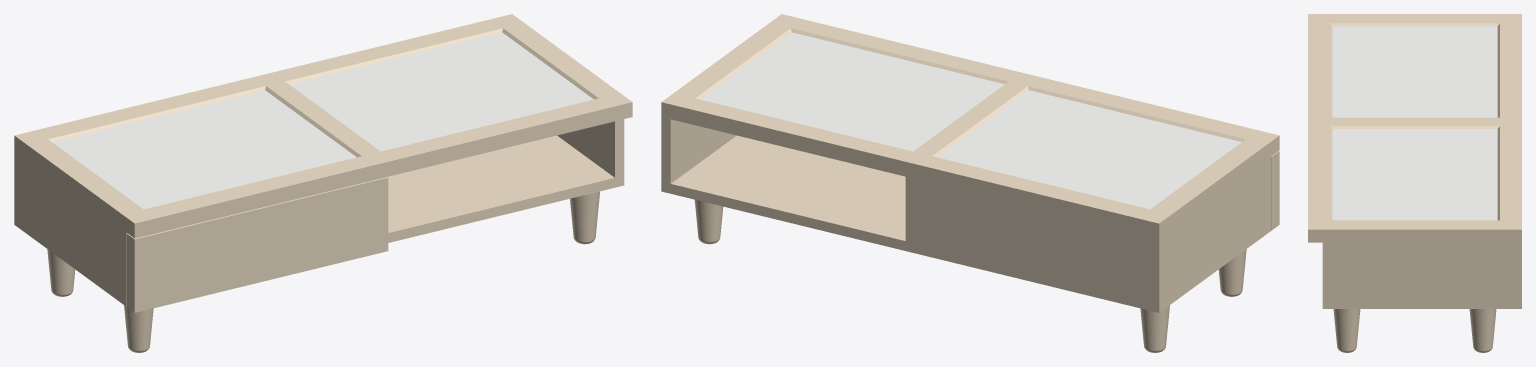
File: 412_アクセサリー収納付きセンターテーブル.glb
3 renders of one model, left to right at view 1: azimuth 30°, elevation 25°; view 2: azimuth 150°, elevation 25°; view 3: azimuth 270°, elevation 25°, orthographic. The views are drawn at different scales.
Visible parts, largest first — view 1: 412_アクセサリー収納付きセンターテーブル, 引き出し; view 2: 412_アクセサリー収納付きセンターテーブル, 引き出し; view 3: 412_アクセサリー収納付きセンターテーブル.
Part boxes in pixels (bbox=[...]): 412_アクセサリー収納付きセンターテーブル: bbox=[14, 14, 632, 352]; 引き出し: bbox=[127, 177, 388, 312]; 412_アクセサリー収納付きセンターテーブル: bbox=[661, 14, 1279, 352]; 引き出し: bbox=[1271, 151, 1279, 230]; 412_アクセサリー収納付きセンターテーブル: bbox=[1308, 14, 1521, 352].
Size of the model in its own units: 1.05 by 0.3 by 0.44.
